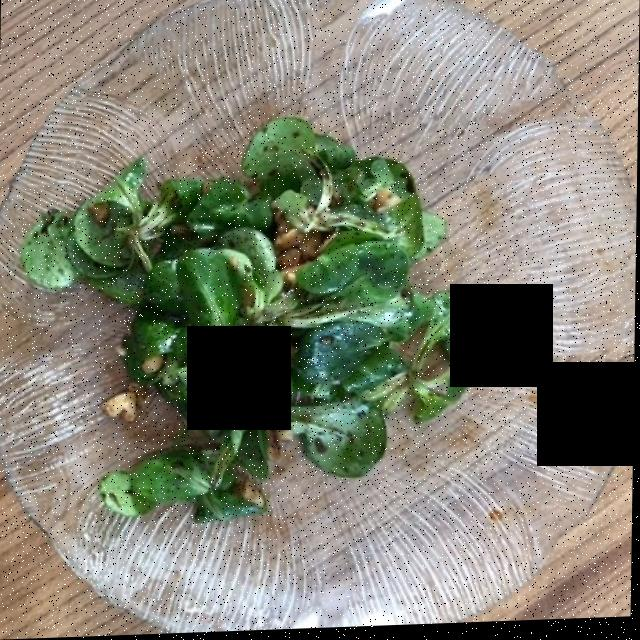salad-lambs-ear: (25, 129, 482, 513)
